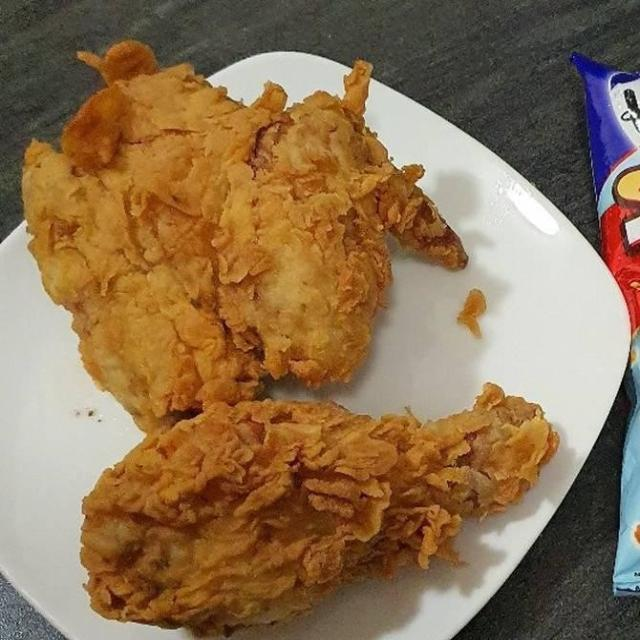Frango: (12, 38, 470, 413), (78, 394, 551, 633)
